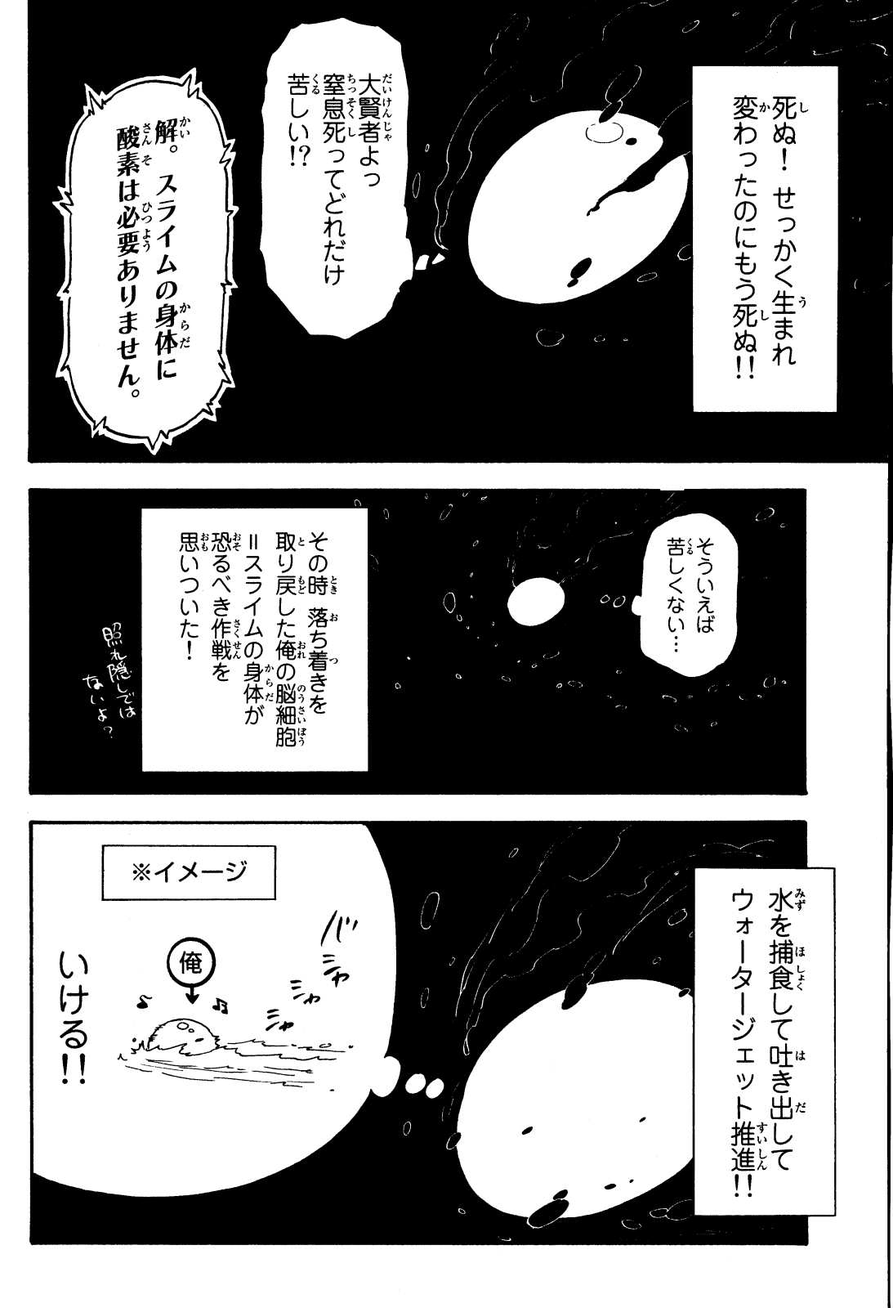bubbles: (30, 823, 445, 1196), (47, 69, 243, 459), (135, 502, 373, 780), (685, 58, 845, 421), (255, 15, 426, 346), (689, 862, 843, 1226), (609, 509, 739, 692)
